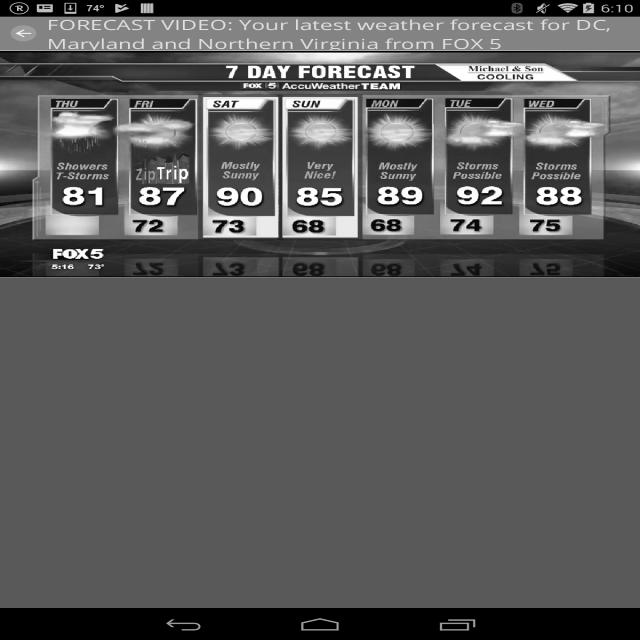ImageButton: (46, 18, 622, 51), (221, 64, 420, 81), (59, 185, 108, 208), (214, 185, 264, 207), (536, 185, 582, 208), (376, 186, 424, 207), (47, 246, 109, 260), (5, 22, 39, 44), (290, 217, 330, 235), (445, 215, 482, 233), (209, 217, 246, 233), (526, 218, 563, 234)
ImageView: (55, 110, 591, 166)
